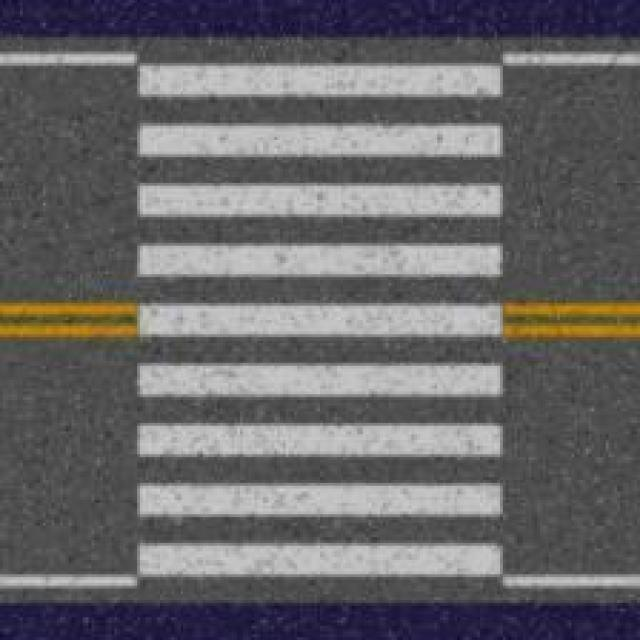crosswalk: (134, 57, 504, 585)
